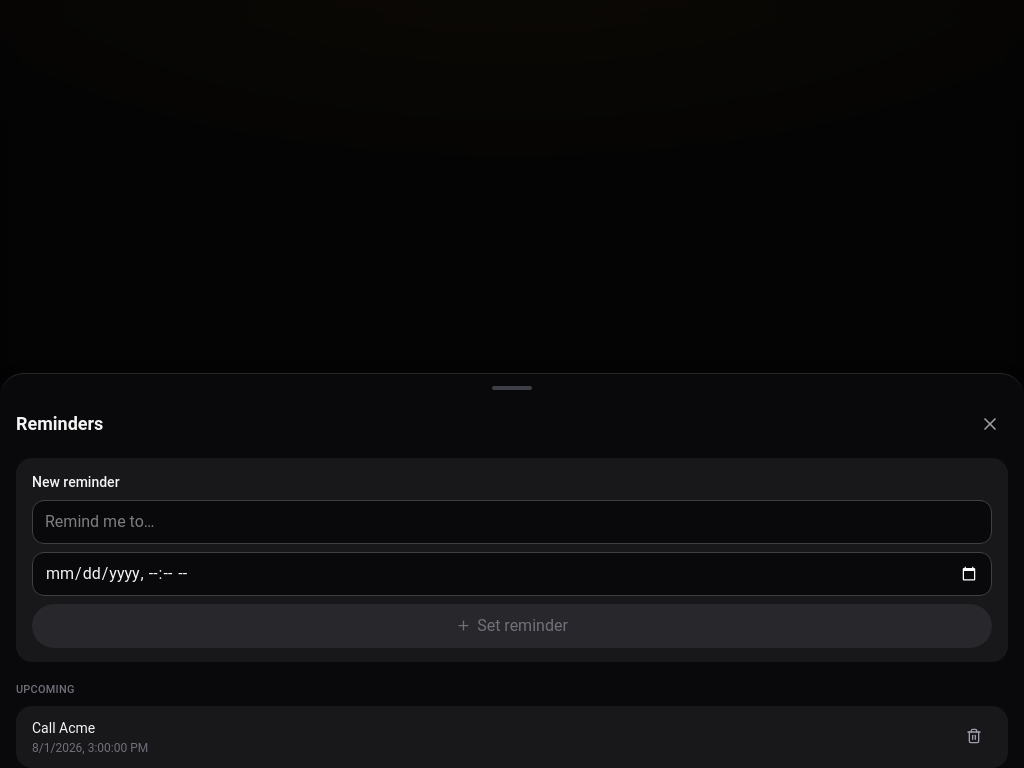
Test case: ReminderSheet › cancels a reminder via DELETE and shows the returned status
Expected: the text "Call Acme" is shown, [32,720,95,736]
What coordinates should you click on to do the following:
click the button named "Cancel reminder"
I would click on:
 (974, 736)
Its box is [956,718,992,754].
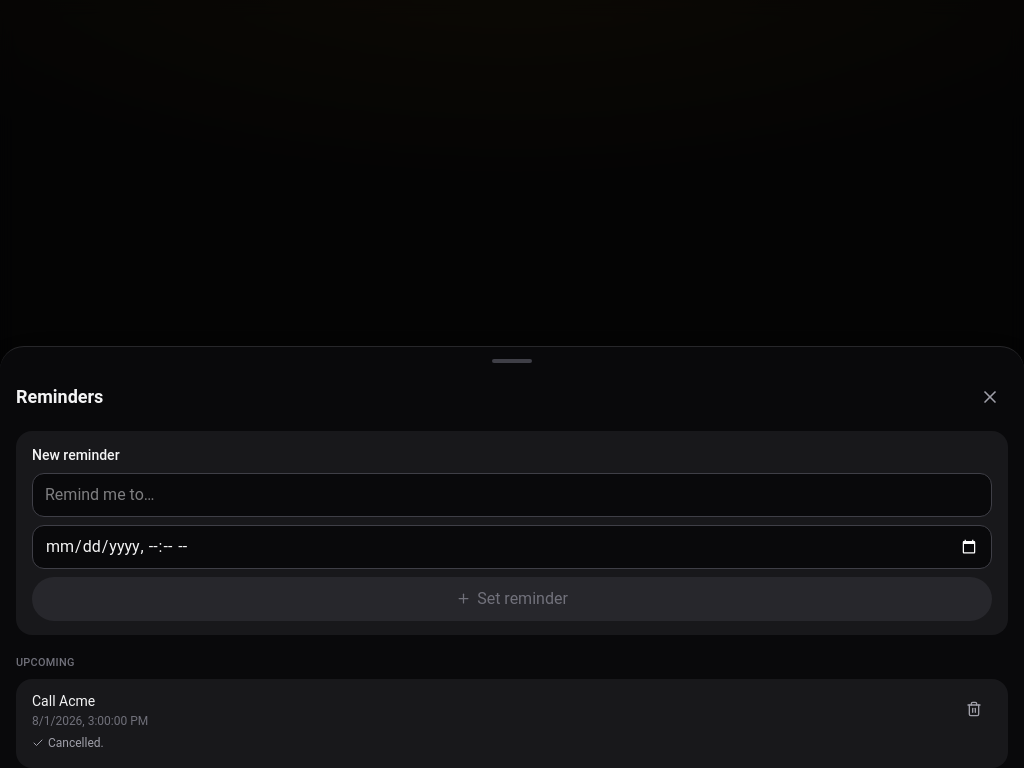
Now the text "Cancelled." is shown, box [32,735,104,751]
